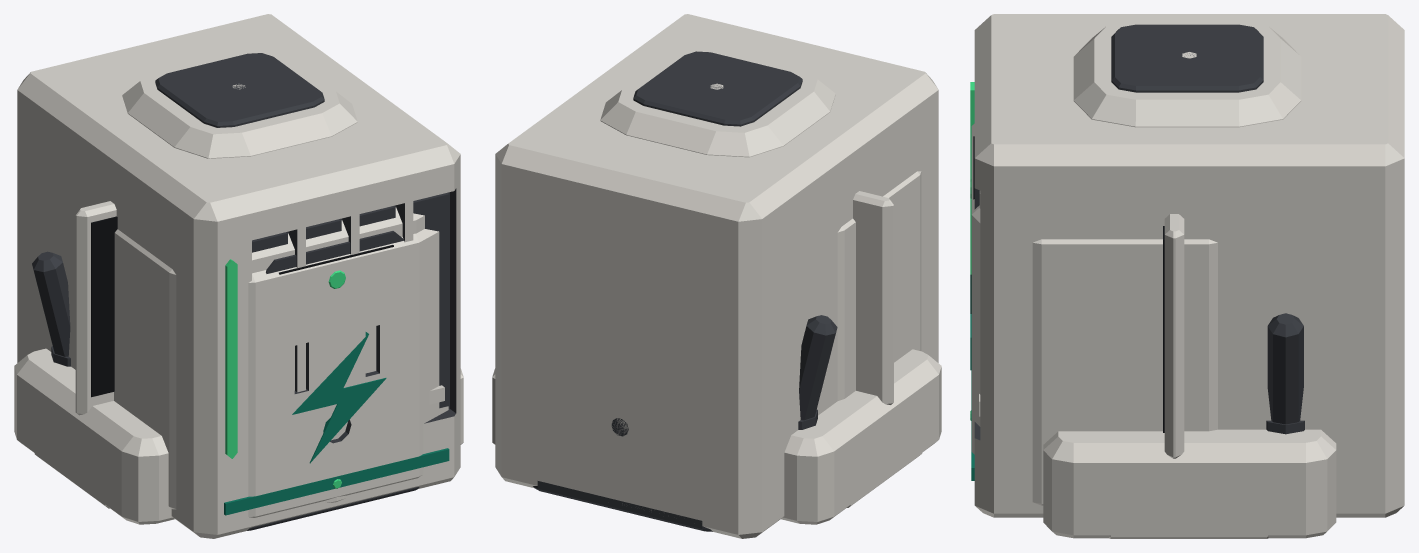
File: kit-gear.glb
3 views of the same model, side by side, from view 1: azimuth 30°, elevation 25°; view 2: azimuth 150°, elevation 25°; view 3: azimuth 270°, elevation 25° (orthographic). The views are drawn at different scales.
Visible parts, largest first — view 1: host, plug, device, satellite, power, media, switch, router; view 2: host, satellite, device, plug, media, switch, router, power; view 3: host, plug, device, satellite, media, switch, router.
Part boxes in pixels (x1,y1,x2,y2): host: [17, 14, 460, 538]; plug: [114, 229, 448, 517]; device: [14, 251, 463, 524]; satellite: [122, 50, 357, 158]; power: [247, 207, 424, 530]; media: [75, 201, 117, 415]; switch: [34, 405, 109, 508]; router: [184, 64, 296, 111]; host: [495, 14, 938, 538]; satellite: [600, 48, 835, 157]; device: [492, 315, 941, 524]; plug: [611, 171, 921, 436]; media: [853, 191, 893, 404]; switch: [847, 404, 922, 507]; router: [661, 61, 775, 109]; power: [533, 481, 712, 531]; host: [970, 14, 1404, 517]; plug: [970, 123, 1217, 505]; device: [1043, 313, 1336, 538]; satellite: [1073, 21, 1301, 127]; media: [1163, 214, 1184, 458]; switch: [1109, 481, 1268, 538]; router: [1136, 33, 1238, 76].
Bounding box in the file's own units: 1 × 1 × 1.
